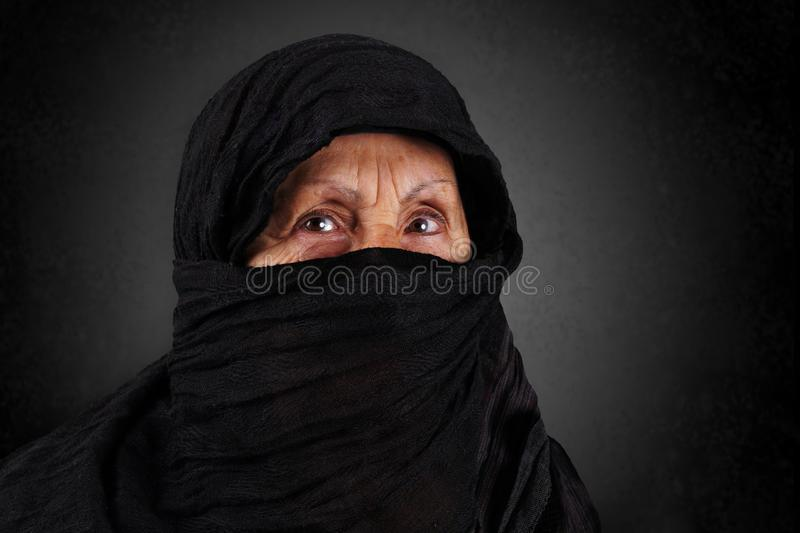No Mask: (172, 30, 522, 422)
